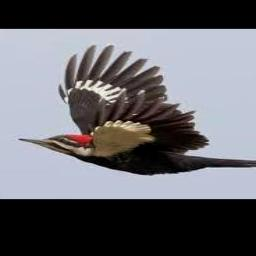Woodpecker: (17, 45, 256, 174)
